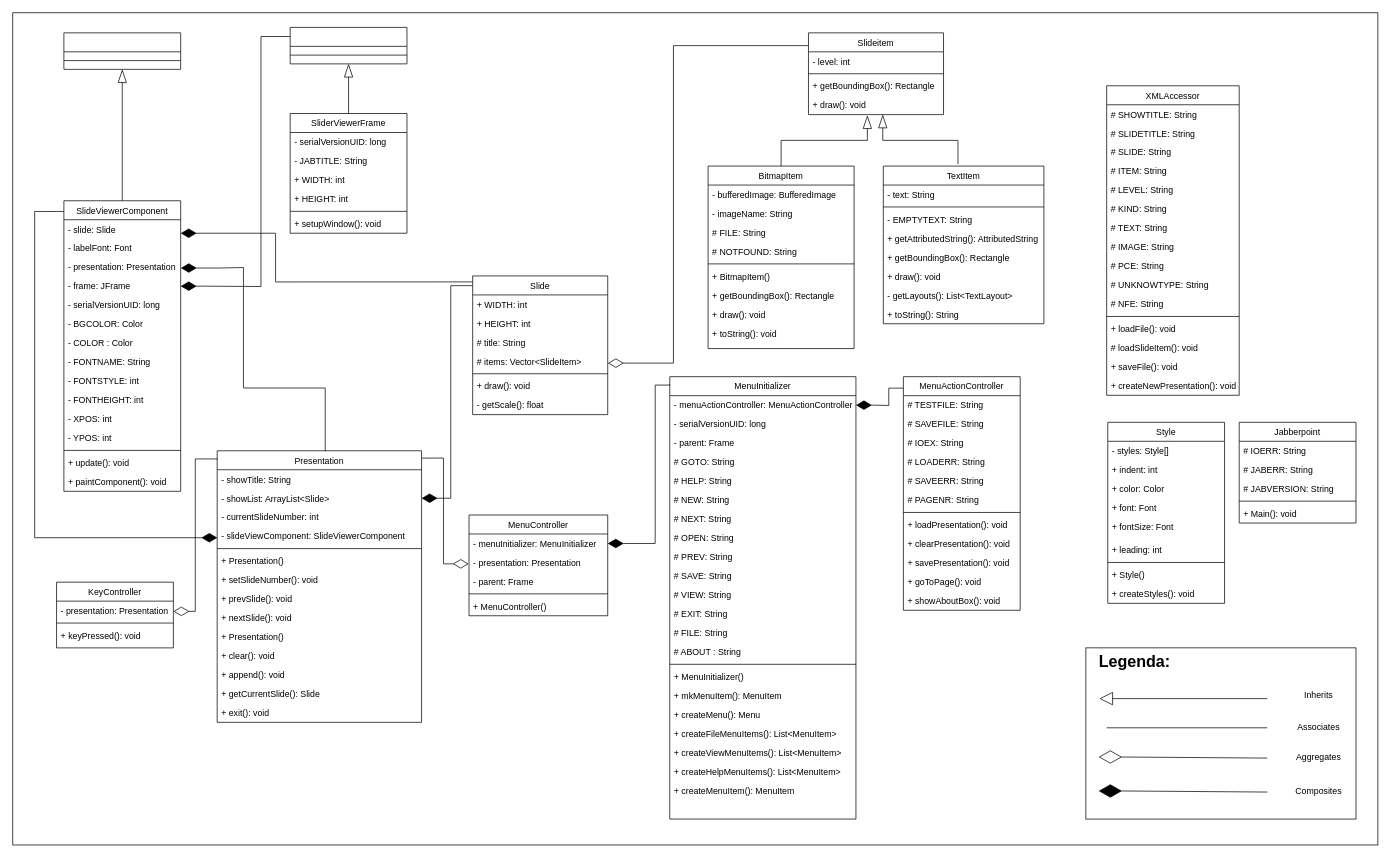
Some shapes in this 1391 by 858 pixel diagram are drawn without their labels. Each missing label, with the centre of its shape:
"JComponent" belongs at (x=122, y=50).
"JFrame" belongs at (x=348, y=45).
